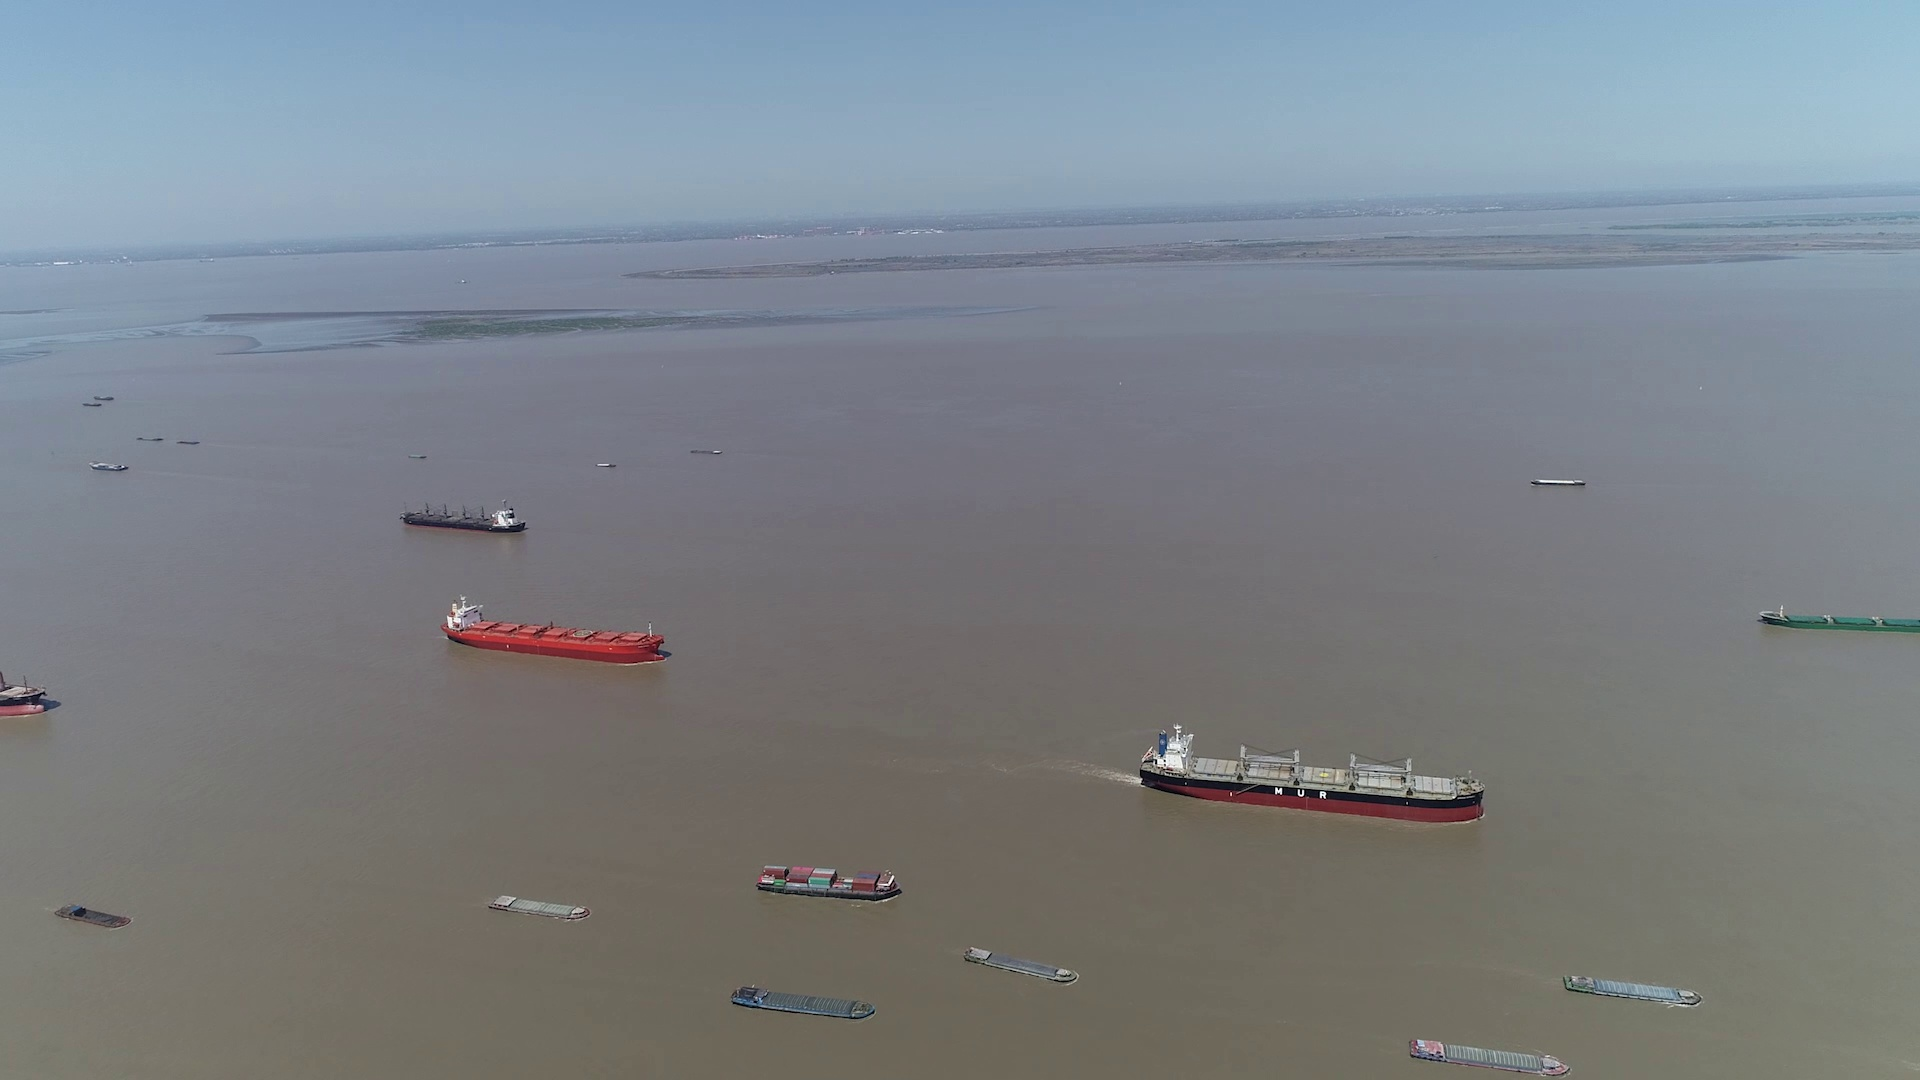ship: (1139, 727, 1487, 822), (444, 595, 665, 665), (1411, 1039, 1564, 1076), (756, 865, 903, 902), (731, 986, 877, 1023), (1564, 973, 1702, 1007), (398, 500, 527, 534), (1758, 605, 1917, 633), (964, 945, 1077, 984), (0, 659, 55, 723), (487, 893, 588, 920), (54, 903, 131, 928), (1534, 477, 1586, 487), (88, 460, 127, 472), (687, 448, 723, 455)
